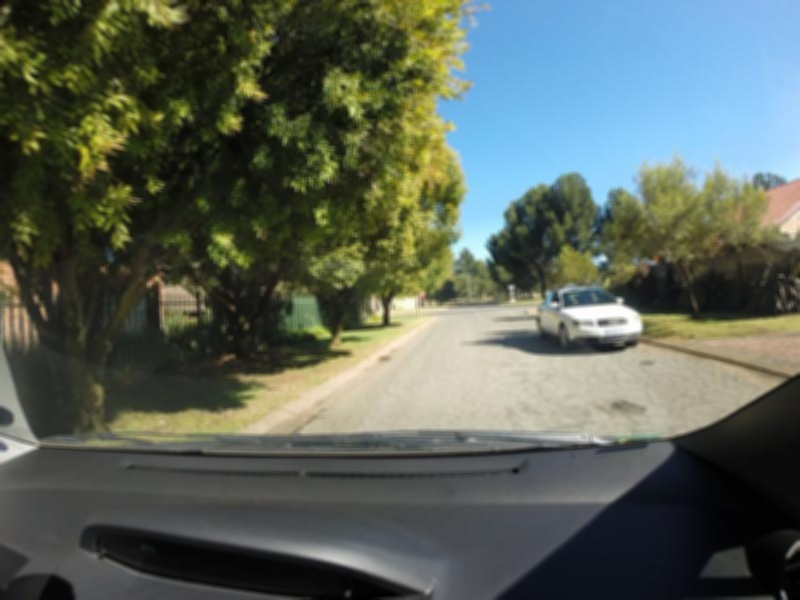pothole: (597, 400, 649, 418), (639, 359, 660, 366)
